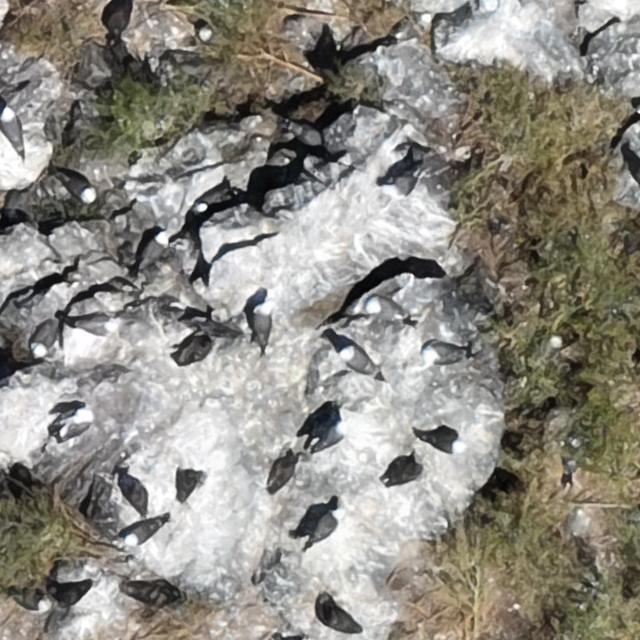umineko: (52, 405, 96, 442), (307, 419, 350, 456), (364, 298, 410, 330), (420, 340, 476, 365), (194, 185, 239, 212), (140, 232, 171, 270), (62, 176, 94, 203), (200, 26, 236, 48), (76, 315, 117, 334), (340, 348, 370, 373), (311, 512, 337, 540), (123, 522, 155, 544), (426, 432, 461, 452), (254, 302, 271, 342), (387, 173, 418, 194), (2, 110, 20, 146), (292, 125, 321, 146), (15, 594, 48, 610), (32, 327, 50, 355)
